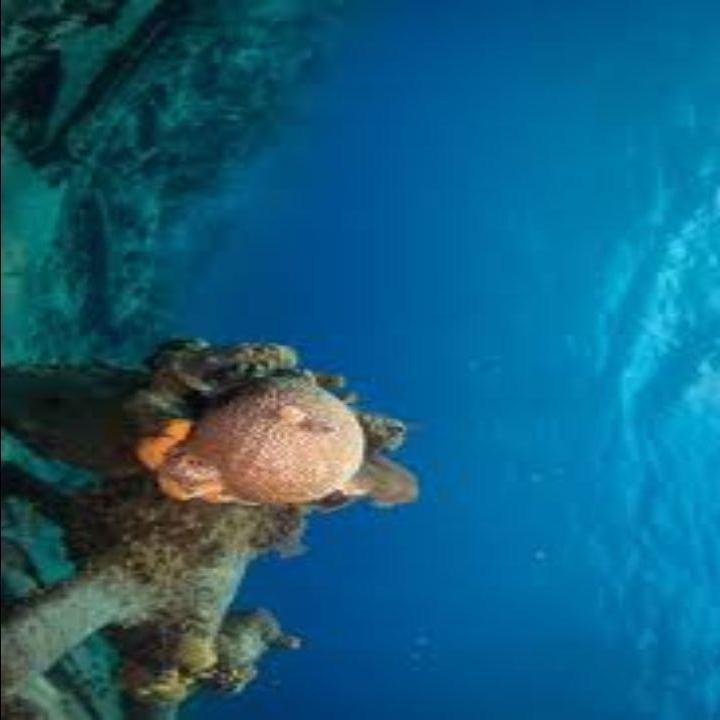Dead Coral: (78, 299, 418, 568)
